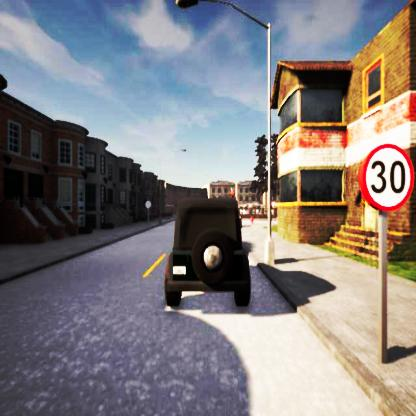vehicle: (163, 196, 252, 308)
